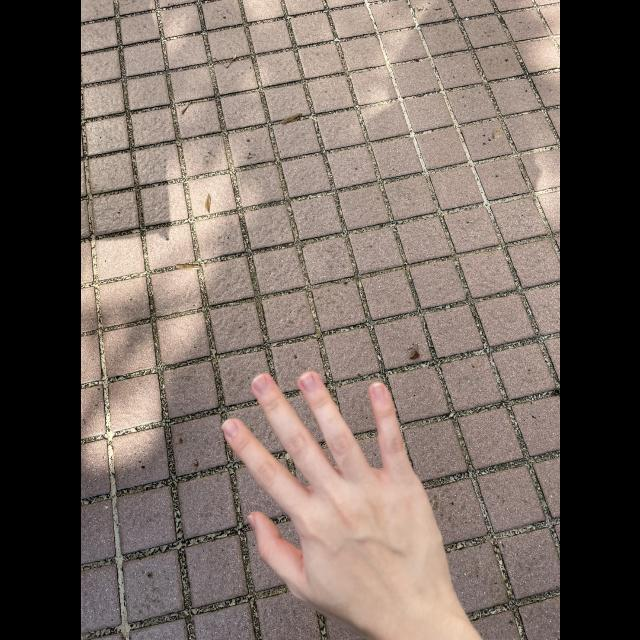bare_hand: (203, 364, 511, 640)
